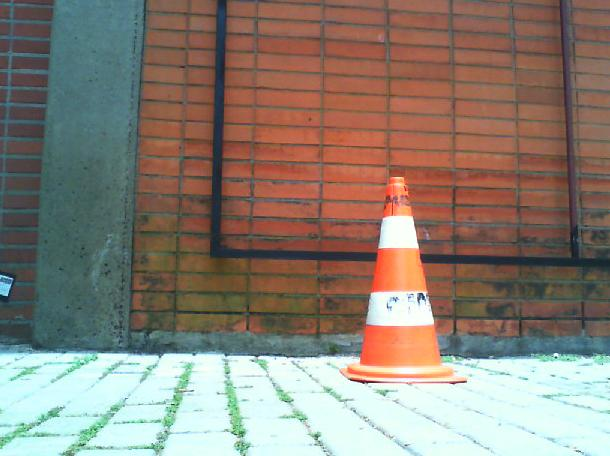0 cone: (340, 178, 464, 384)
